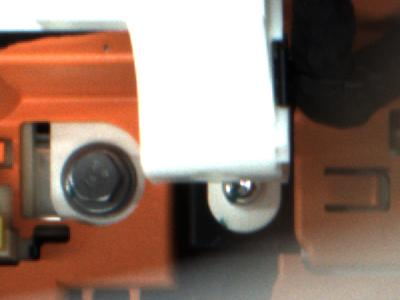nut_b: (59, 142, 133, 214)
